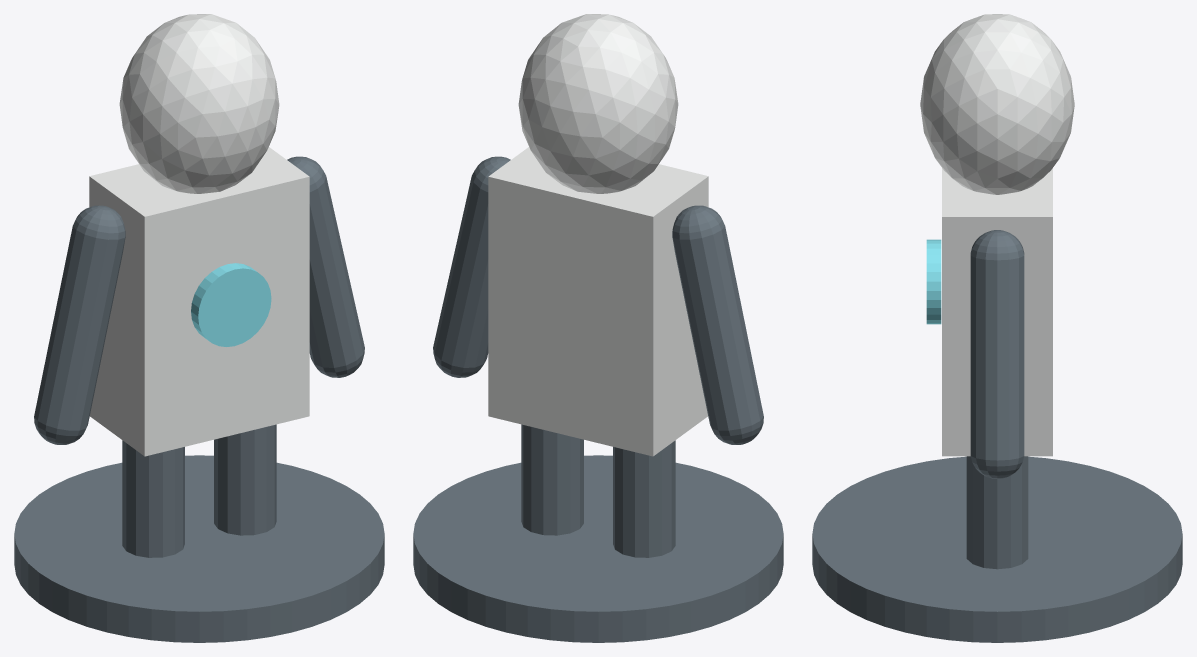
File: guardian-figure.glb
3 views of the same model, side by side, from view 1: azimuth 30°, elevation 25°; view 2: azimuth 150°, elevation 25°; view 3: azimuth 270°, elevation 25° (orthographic).
Parts seen in each view (by area): view 1: guardian-figure-0, guardian-figure-7, guardian-figure-1, guardian-figure-3, guardian-figure-5, guardian-figure-4, guardian-figure-6, guardian-figure-2; view 2: guardian-figure-0, guardian-figure-7, guardian-figure-1, guardian-figure-3, guardian-figure-5, guardian-figure-4, guardian-figure-6; view 3: guardian-figure-7, guardian-figure-1, guardian-figure-0, guardian-figure-5, guardian-figure-6, guardian-figure-2.
Boxes of the visible parts, x1,y1,x2,y2 form: guardian-figure-0: (89,147,309,456); guardian-figure-7: (14,455,384,642); guardian-figure-1: (119,14,279,193); guardian-figure-3: (34,205,125,444); guardian-figure-5: (287,156,364,377); guardian-figure-4: (122,440,184,557); guardian-figure-6: (214,424,276,535); guardian-figure-2: (191,263,271,346); guardian-figure-0: (488,147,708,456); guardian-figure-7: (413,455,783,642); guardian-figure-1: (518,14,678,193); guardian-figure-3: (672,205,763,444); guardian-figure-5: (433,156,510,377); guardian-figure-4: (613,440,675,557); guardian-figure-6: (521,424,583,535); guardian-figure-7: (812,456,1182,642); guardian-figure-1: (920,14,1074,194); guardian-figure-0: (942,168,1052,456); guardian-figure-5: (970,230,1024,478); guardian-figure-6: (966,456,1028,569); guardian-figure-2: (926,239,941,324).
Bounding box in the file's own units: 1.41 × 2.34 × 1.4.
